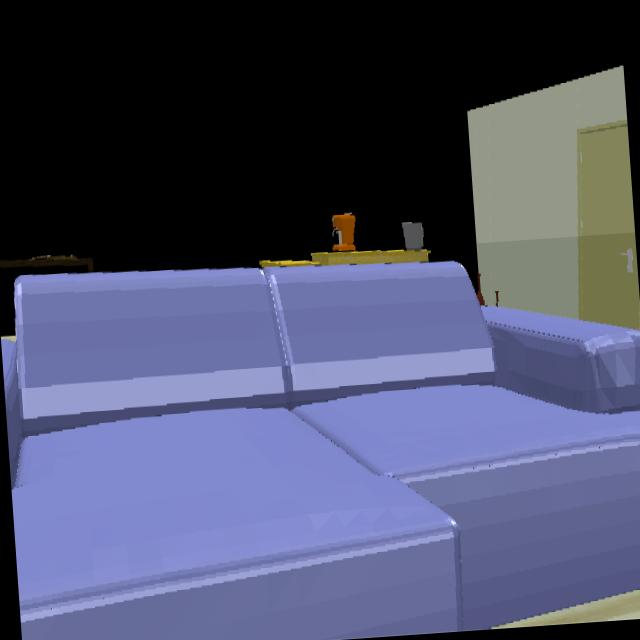sofa: (2, 260, 640, 640)
